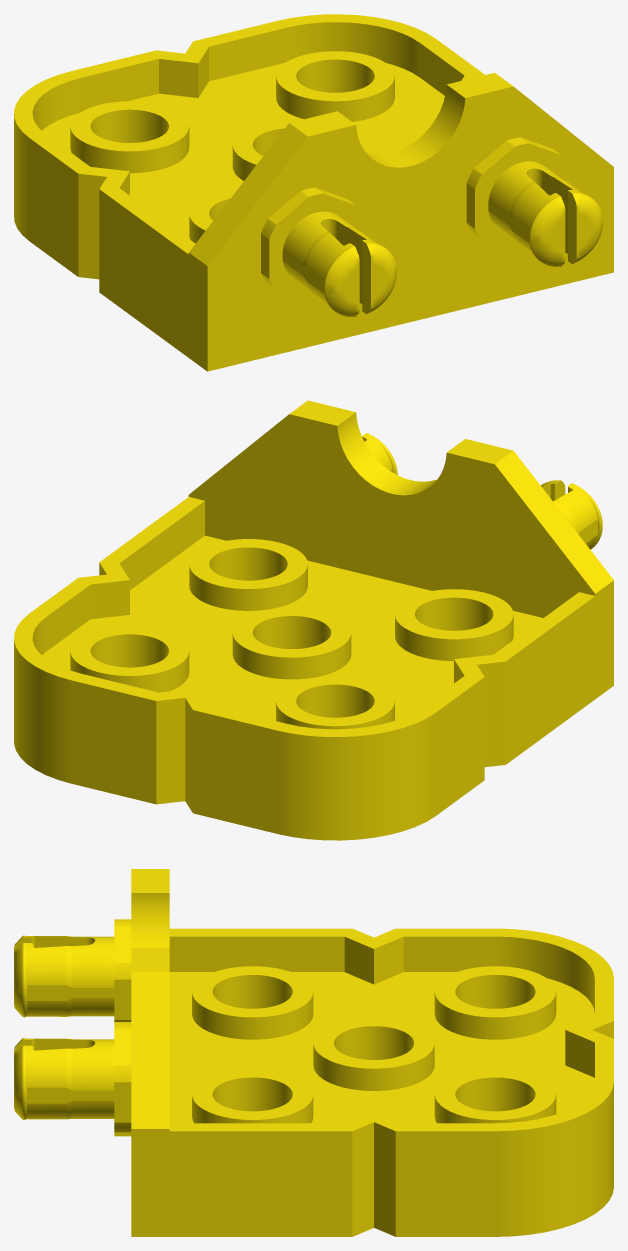
3 renders of one model, top to bottom at view 1: azimuth 30°, elevation 25°; view 2: azimuth 150°, elevation 25°; view 3: azimuth 270°, elevation 25°, orthographic. The views are drawn at different scales.
Visible parts, largest first — view 1: main_ffcd00; view 2: main_ffcd00; view 3: main_ffcd00.
Boxes of the visible parts, <box> form: main_ffcd00: <box>14,14,613,371</box>; main_ffcd00: <box>14,400,613,840</box>; main_ffcd00: <box>14,869,613,1236</box>.
Size of the model in its own units: 25.1 by 12.42 by 31.39.
